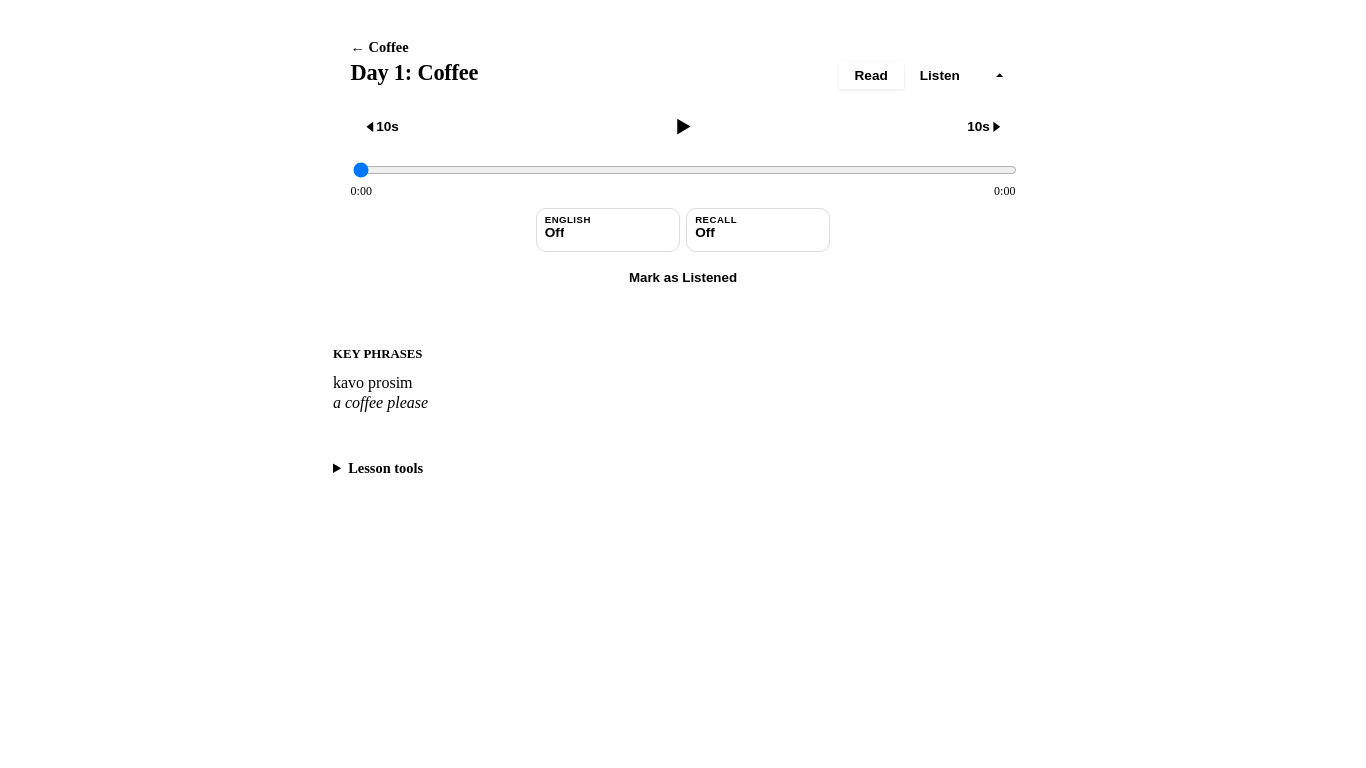
Test: /c/[curriculumId]/l/[lessonId] page › shows listen confirmation with created/staged after commit via preview modal
The width and height of the screenshot is (1366, 768).
Click the button "Listen" at (940, 76), box [904,62,976,89]
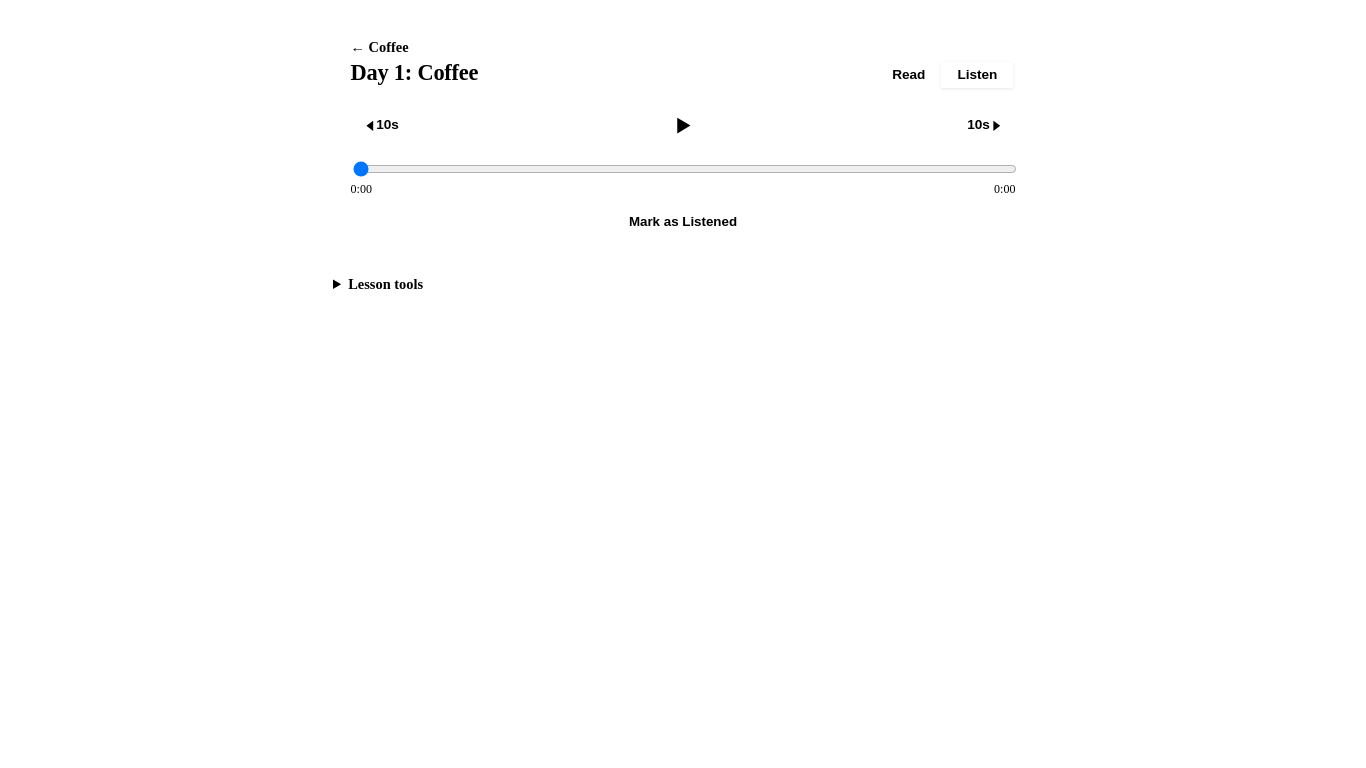
Click the button "Mark as Listened" at (683, 222), box [609,206,757,237]
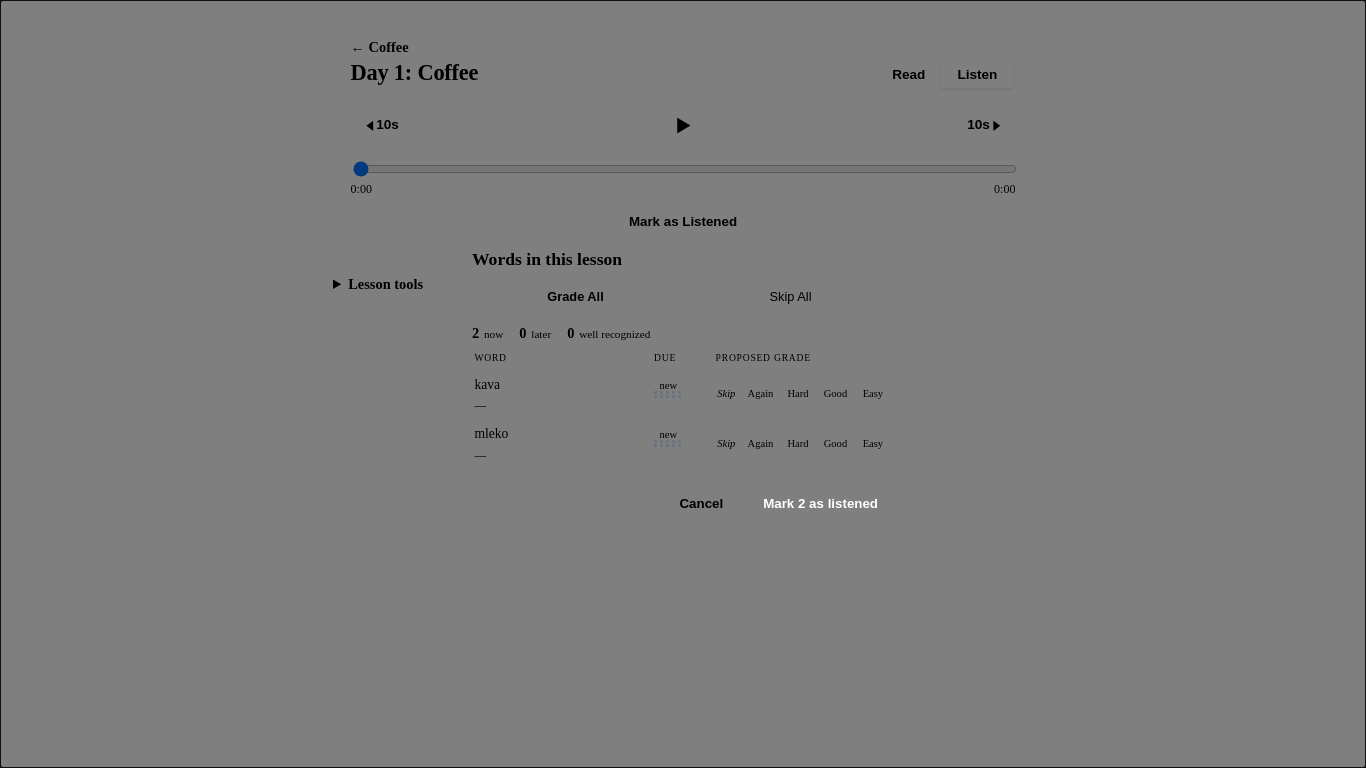
Click the button "Mark 2 as listened" at (821, 503), box [747,488,894,519]
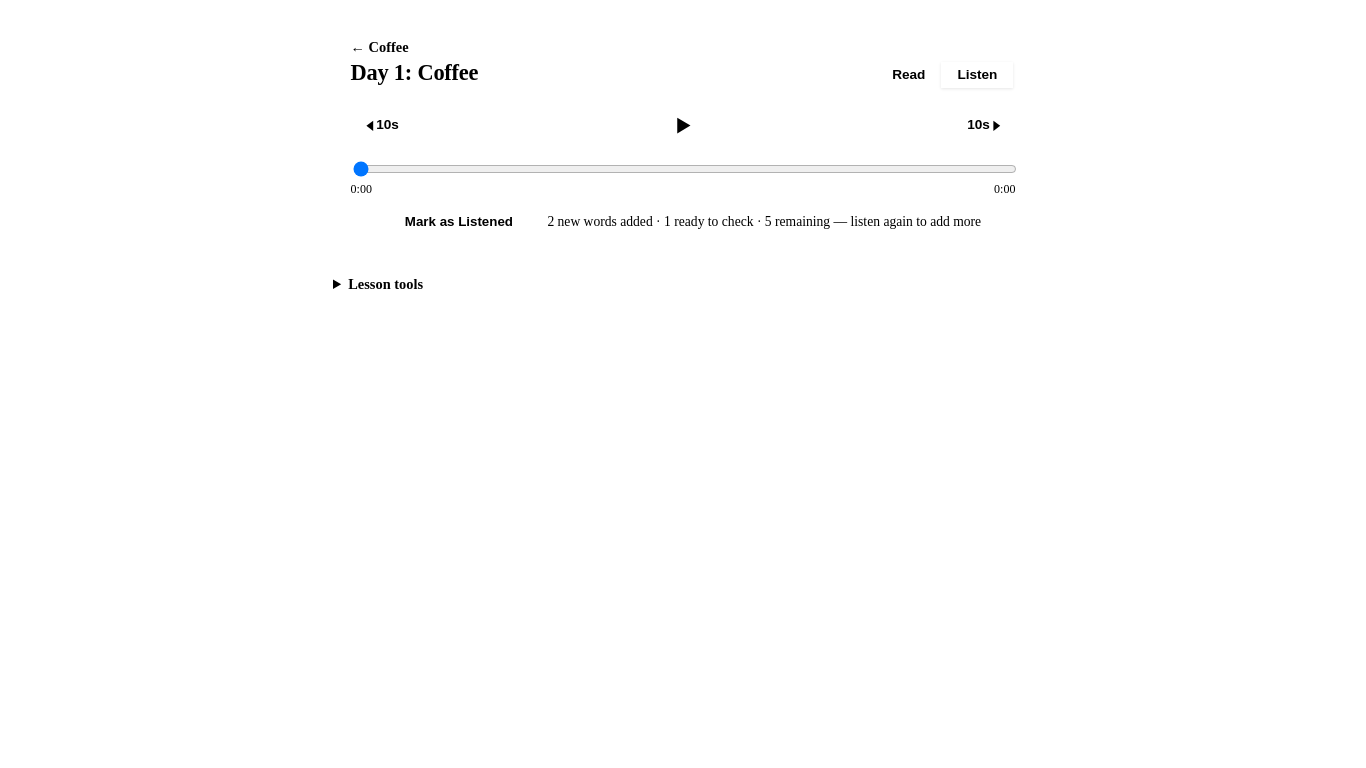
Result: the text "2 new words added" is shown at [547,214,653,229]
Result: the text "1 ready to check" is shown at [664,214,754,229]
